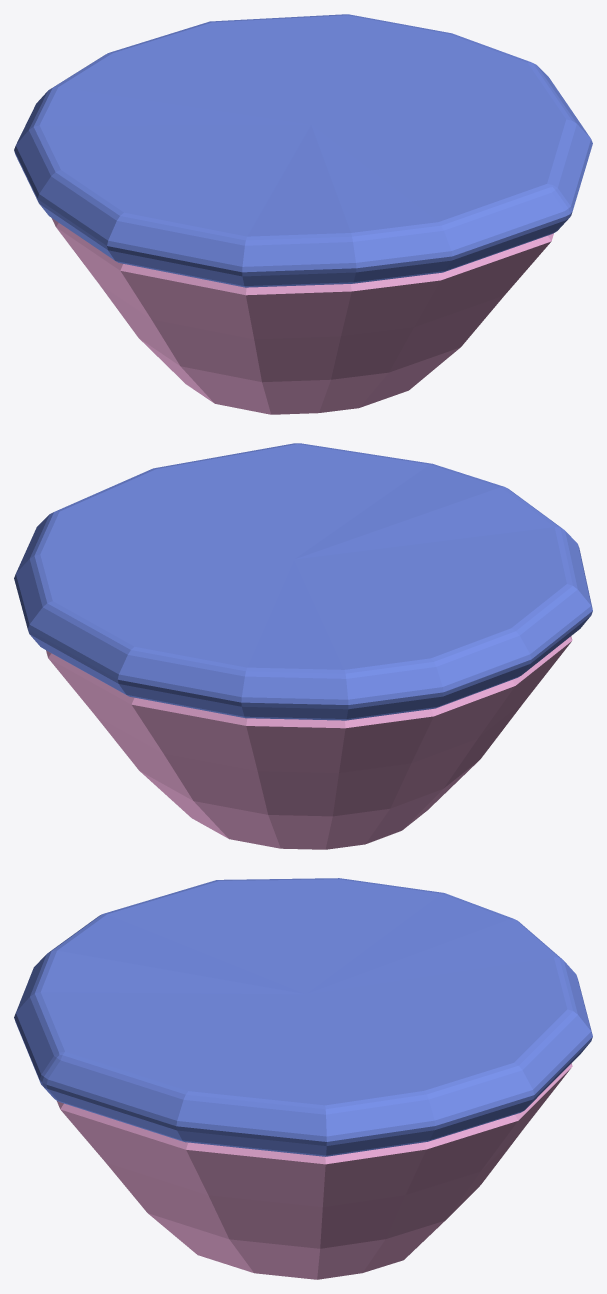
The model's file is island.fbx.
The picture shows the model from 3 angles, top to bottom: view 1: azimuth 30°, elevation 25°; view 2: azimuth 150°, elevation 25°; view 3: azimuth 270°, elevation 25°; orthographic projection.
Visible parts, largest first — view 1: top, base; view 2: top, base; view 3: top, base.
Boxes of the visible parts, bbox=[...] form: top: bbox=[14, 14, 592, 287]; base: bbox=[51, 218, 553, 414]; top: bbox=[14, 443, 592, 720]; base: bbox=[46, 636, 572, 849]; top: bbox=[14, 878, 592, 1156]; base: bbox=[57, 1063, 572, 1279].
Bounding box in the file's own units: 8.98 × 4.67 × 8.84.
